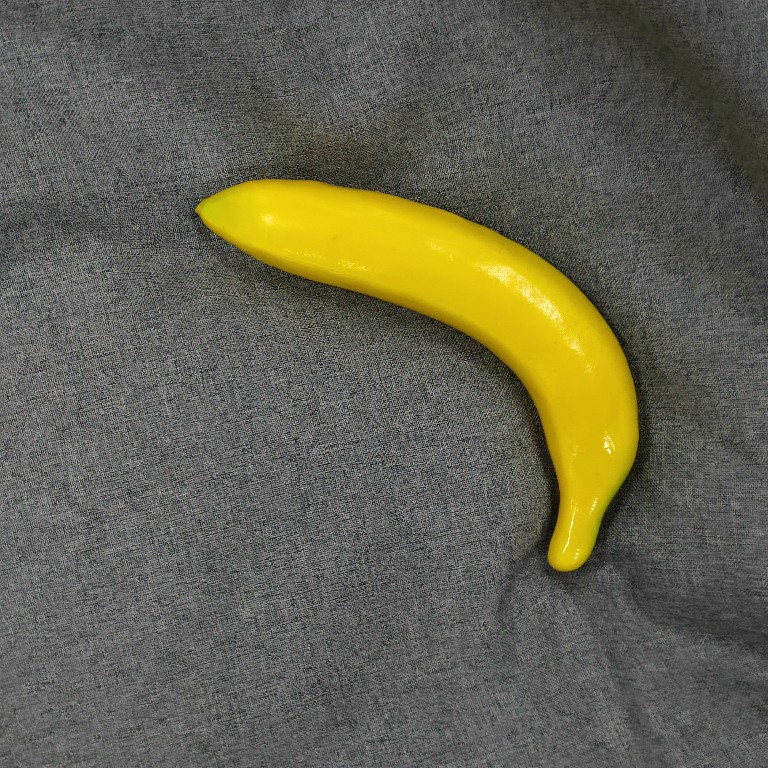fruit_banana: (189, 172, 643, 579)
